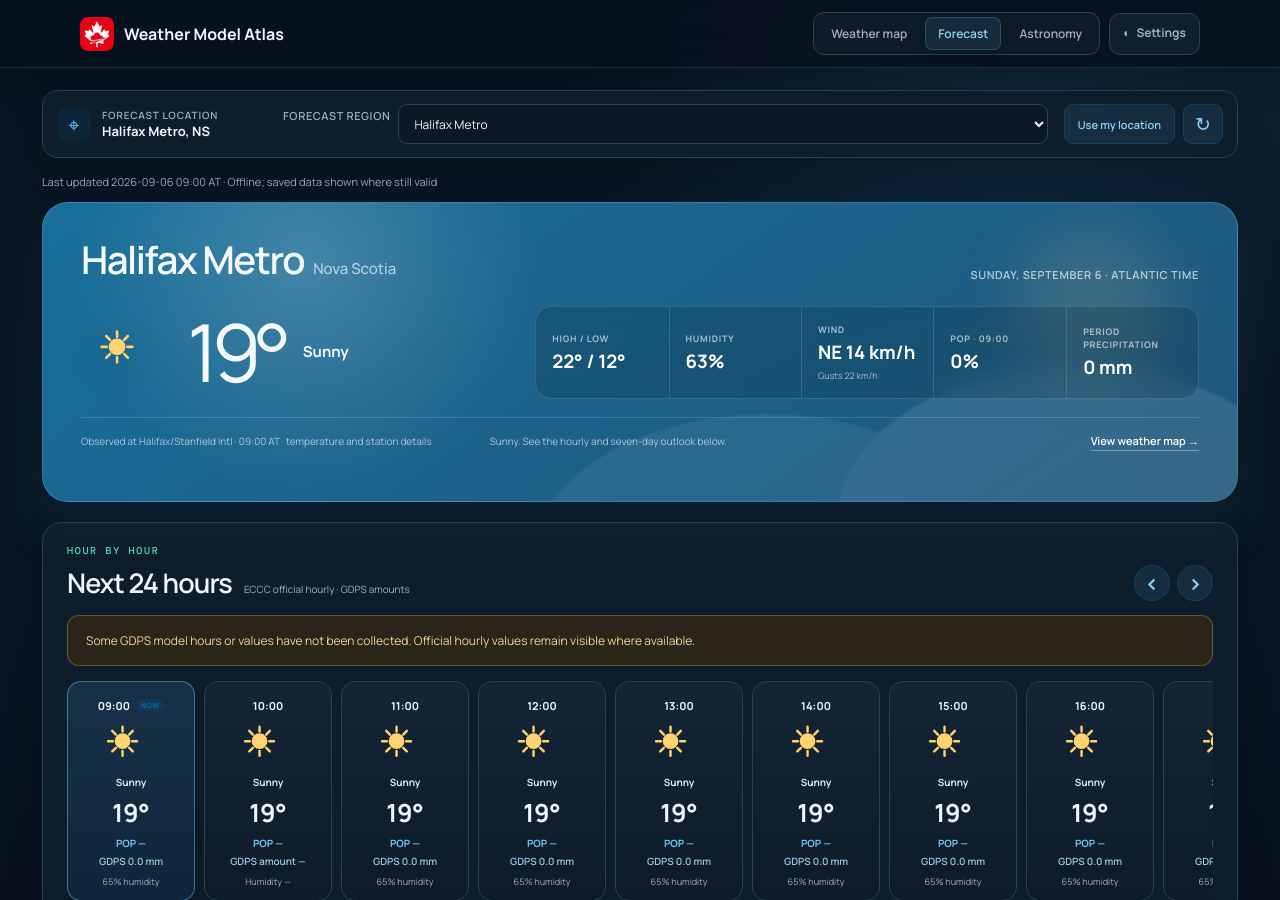
Test: forecast page › labels offline data and recovers the existing location when connectivity returns
This screenshot has width=1280, height=900.
Check: the text "Last updated 2026-09-06 09:00 AT · Offline; saved data shown where still valid" is shown, box [42, 174, 437, 189]
Click the button named "Refresh forecasts" at (1203, 124), box [1183, 104, 1223, 144]
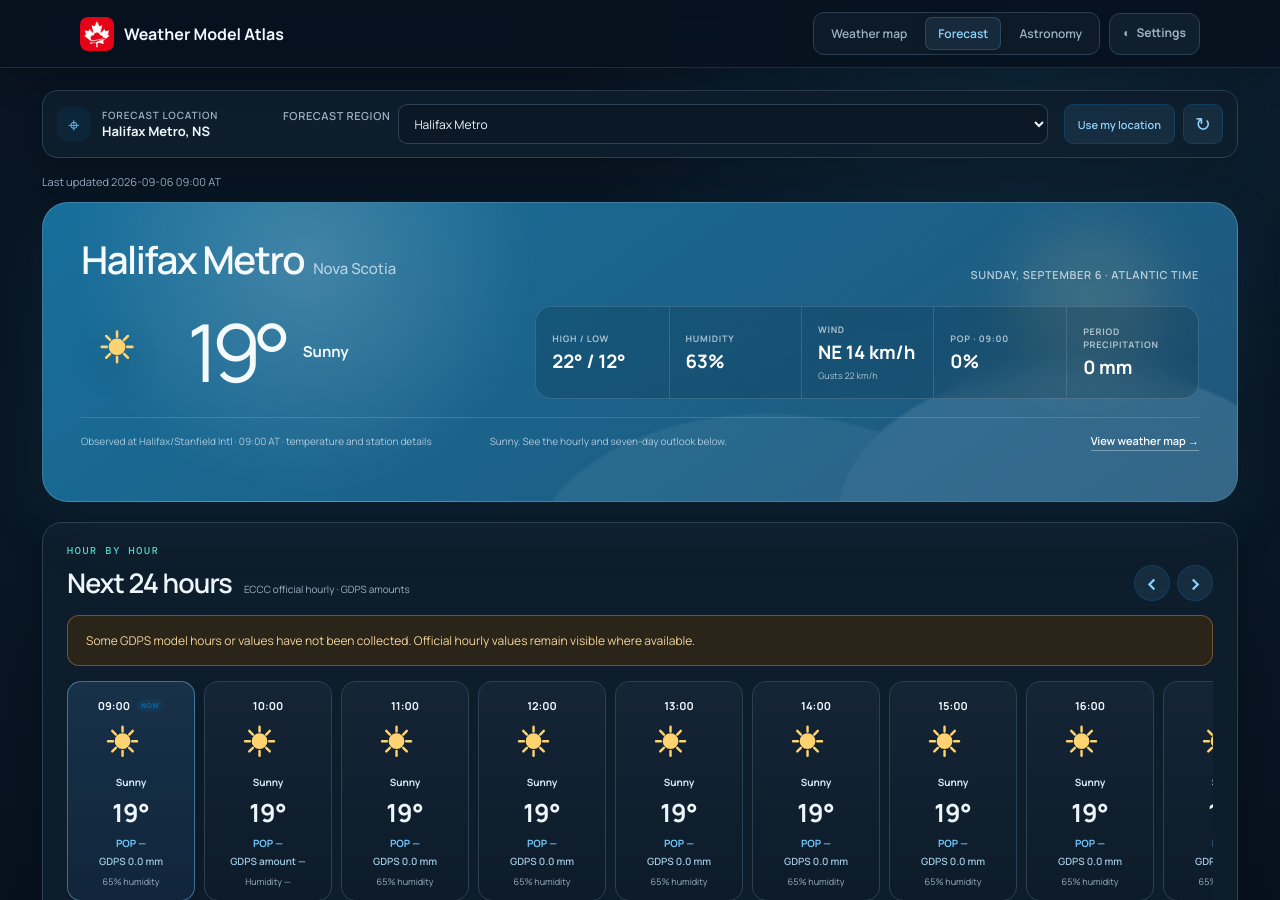
Check: the dropdown labelled "Forecast region" shows "Halifax Metro", box [398, 104, 1048, 144]
Check: the text "Offline; saved data" is gone
